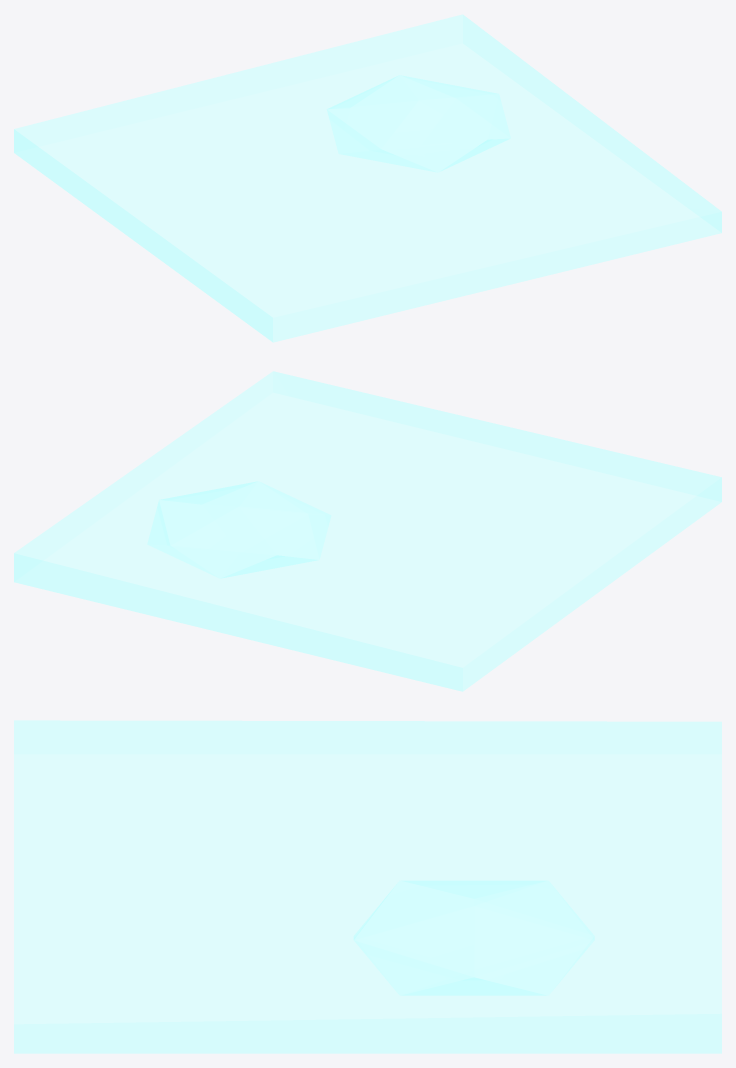
File: GH_Tile_WaterTile.fbx
3 views of the same model, one above another, from view 1: azimuth 30°, elevation 25°; view 2: azimuth 150°, elevation 25°; view 3: azimuth 270°, elevation 25° (orthographic). The views are drawn at different scales.
Visible parts, largest first — view 1: SM_Tile_WaterTile; view 2: SM_Tile_WaterTile; view 3: SM_Tile_WaterTile.
Part boxes in pixels (bbox=[...]): SM_Tile_WaterTile: bbox=[14, 14, 721, 342]; SM_Tile_WaterTile: bbox=[14, 371, 721, 691]; SM_Tile_WaterTile: bbox=[14, 720, 721, 1053].
Bounding box in the file's own units: 2 × 0.2 × 2.
